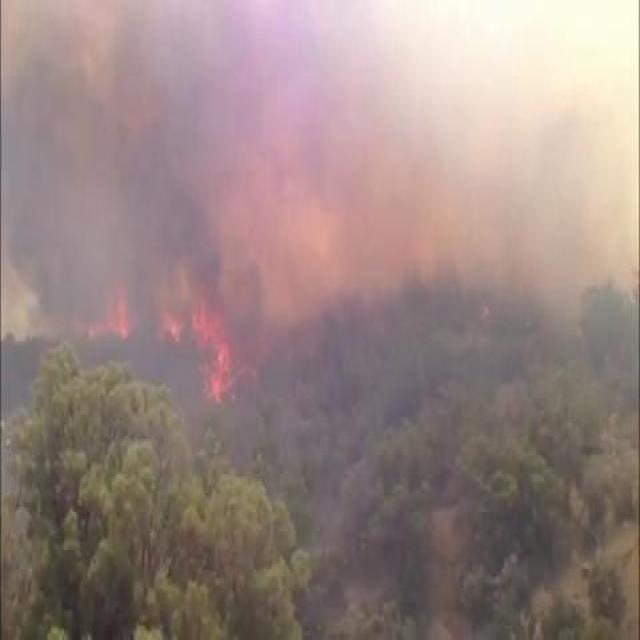Fire: (192, 302, 243, 403), (82, 286, 138, 350), (156, 303, 186, 350)
Smoke: (0, 0, 269, 363)
